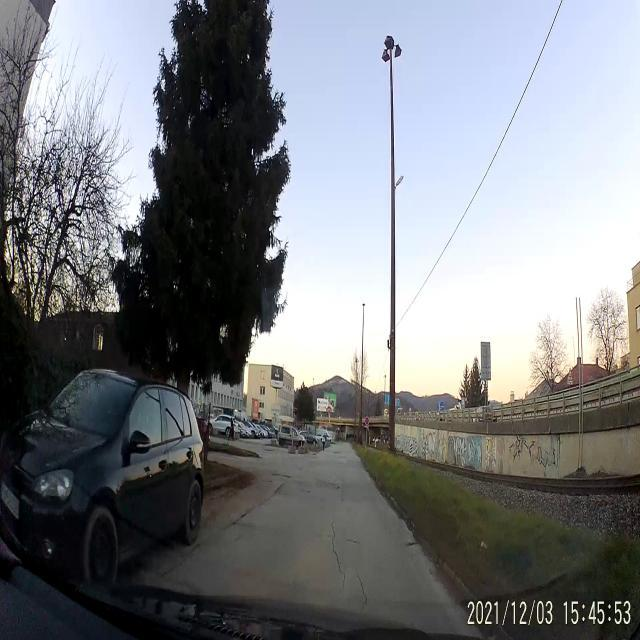Pothole: (269, 469, 296, 485)
